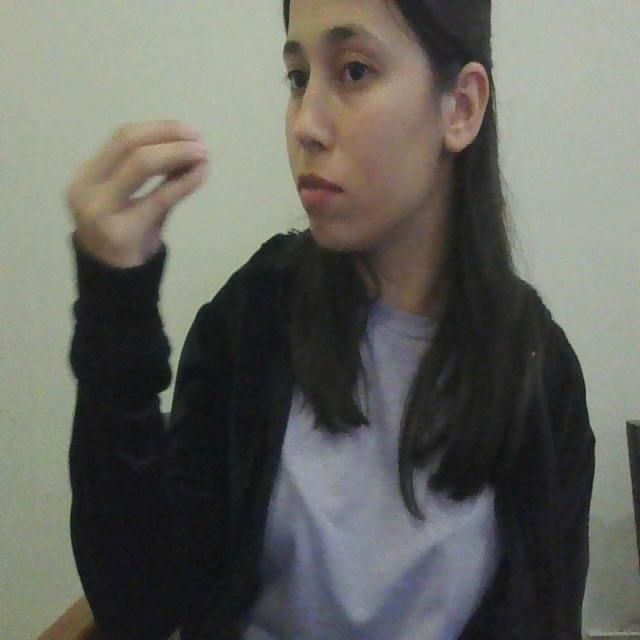Yemek: (71, 121, 345, 243)
